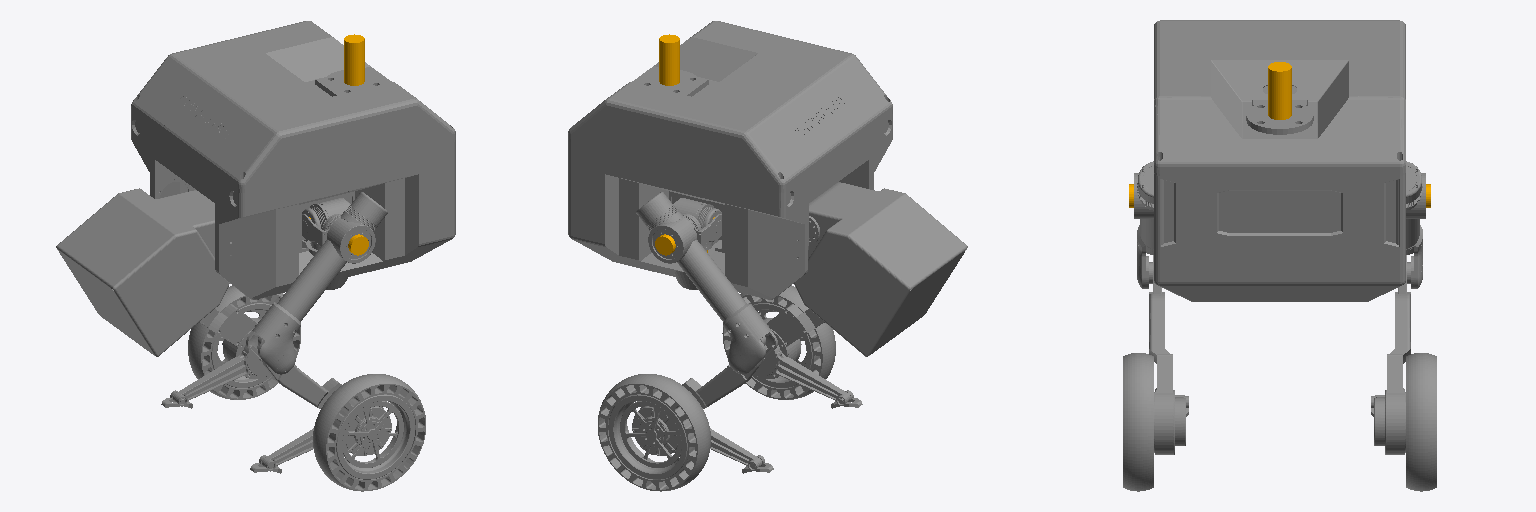
--- Render facts (derived) ---
3 views of the same robot in one strip: view 1: azimuth 30°, elevation 25°; view 2: azimuth 150°, elevation 25°; view 3: azimuth 270°, elevation 25° (orthographic).
Model wheelwalker_v1 with 17 links and 16 joints (5 revolute, 2 continuous, 9 fixed), rooted at base_link, posed all joints at 0.
Visible links, largest first — view 1: base_link, tail_link, right_wheel_link, right_thigh_link, left_wheel_link, right_tibia_link, right_hip_pitch_link, left_foot_link, left_tibia_link, right_foot_link, top_shoulder_mount_link, right_hip_roll_link; view 2: base_link, tail_link, left_wheel_link, left_thigh_link, right_wheel_link, left_tibia_link, left_hip_pitch_link, right_foot_link, right_tibia_link, left_foot_link, top_shoulder_mount_link, left_hip_roll_link; view 3: base_link, left_wheel_link, right_wheel_link, left_tibia_link, right_tibia_link, left_thigh_link, right_thigh_link, top_shoulder_mount_link, left_foot_link, right_foot_link.
Link boxes in pixels (box(x1,y1,x2,y2)): base_link: box(131, 21, 455, 299); tail_link: box(56, 188, 231, 356); right_wheel_link: box(313, 374, 425, 491); right_thigh_link: box(246, 192, 387, 374); left_wheel_link: box(188, 285, 300, 399); right_tibia_link: box(258, 336, 391, 455); right_hip_pitch_link: box(302, 201, 375, 263); left_foot_link: box(161, 345, 269, 408); left_tibia_link: box(199, 304, 269, 378); right_foot_link: box(250, 428, 313, 473); top_shoulder_mount_link: box(344, 34, 364, 85); right_hip_roll_link: box(302, 198, 350, 249); base_link: box(568, 21, 892, 299); tail_link: box(794, 182, 967, 356); left_wheel_link: box(598, 374, 710, 491); left_thigh_link: box(636, 192, 777, 374); right_wheel_link: box(722, 285, 835, 399); left_tibia_link: box(632, 336, 765, 455); left_hip_pitch_link: box(648, 201, 721, 263); right_foot_link: box(754, 345, 862, 408); right_tibia_link: box(754, 304, 824, 378); left_foot_link: box(710, 428, 773, 473); top_shoulder_mount_link: box(659, 34, 679, 85); left_hip_roll_link: box(673, 198, 721, 250); base_link: box(1154, 20, 1405, 301); left_wheel_link: box(1406, 353, 1436, 491); right_wheel_link: box(1123, 353, 1153, 491); left_tibia_link: box(1384, 255, 1410, 454); right_tibia_link: box(1149, 255, 1175, 454); left_thigh_link: box(1406, 161, 1422, 288); right_thigh_link: box(1137, 161, 1153, 288); top_shoulder_mount_link: box(1268, 62, 1291, 119); left_foot_link: box(1371, 395, 1384, 445); right_foot_link: box(1175, 395, 1188, 445).
Bounding box of the posed robot: 0.6579 × 0.4965 × 0.7764 m (x, y, z).
15 mesh visuals loaded from 16 distinct referenced files (15 binary STL); not drawn: 1 (reference not matched to a file when rendering).

robot.urdf — wheelwalker_v1:
<?xml version="1.0" ?>
<!-- =================================================================================== -->
<!-- |    This document was autogenerated by xacro from xacro/wheelwalker_v1.urdf.xacro | -->
<!-- |    EDITING THIS FILE BY HAND IS NOT RECOMMENDED                                 | -->
<!-- =================================================================================== -->
<robot name="wheelwalker_v1">
  <!-- The following included files set up definitions of parts of the robot body -->
  <!-- This file is not a robot in and of itself, it just contains some useful tags that could be included in any robot -->
  <!-- <xacro:include filename="$(find wheelwalker_description)/description/materials.urdf.xacro"/> -->
  <!-- Some constants -->
  <!-- Kinect Camera Location (Nominally 0) -->
  <!-- Rigid shape -->
  <!-- Detailed shape -->
  <!-- Virtual shape -->
  <!-- Mounting Points -->
  <!-- Joints -->
  <!-- Specify some standard inertial calculations https://en.wikipedia.org/wiki/List_of_moments_of_inertia -->
  <!-- These make use of xacro's mathematical functionality -->
  <!-- This file is not a robot in and of itself, it just contains some useful tags that could be included in any robot -->
  <!-- Specify some colours -->
  <material name="Black">
    <color rgba="0.1 0.1 0.1 1.0"/>
  </material>
  <material name="Blue">
    <color rgba="0.0 0.0 0.8 1.0"/>
  </material>
  <material name="Green">
    <color rgba="0.0 0.8 0.0 1.0"/>
  </material>
  <material name="Grey">
    <color rgba="0.7 0.7 0.7 1.0"/>
  </material>
  <material name="Grey2">
    <color rgba="0.9 0.9 0.9 1.0"/>
  </material>
  <material name="LightGrey">
    <color rgba="0.6 0.6 0.6 1.0"/>
  </material>
  <material name="Red">
    <color rgba="0.8 0.0 0.0 1.0"/>
  </material>
  <material name="White">
    <color rgba="1.0 1.0 1.0 1.0"/>
  </material>
  <material name="yellow-skin">
    <color rgba="1 0.7 0 1"/>
  </material>
  <material name="yellow-skin-dark">
    <color rgba="0.9 0.6 0 1"/>
  </material>
  <!-- Specify some textures -->
  <material name="Caster">
    <texture filename="package://wheelwalker_description/materials/textures/wheelwalker_caster_texture.png"/>
  </material>
  <material name="Wheel_l">
    <texture filename="package://wheelwalker_description/materials/textures/wheelwalker_wheel_left.png"/>
  </material>
  <material name="Wheel_r">
    <texture filename="package://wheelwalker_description/materials/textures/wheelwalker_wheel_right.png"/>
  </material>
  <material name="RollLinks">
    <texture filename="package://wheelwalker_description/materials/textures/wheelwalker_wheel_left.png"/>
  </material>
  <!-- WheelWalker arm -->
  <!-- <xacro:include filename="$(find wheelwalker_description)/description/shoulder/shoulder_v1.urdf.xacro"/> -->
  <!-- <xacro:include filename="$(find wheelwalker_description)/description/upper_arm/upper_arm_v1.urdf.xacro"/> -->
  <!-- <xacro:include filename="$(find wheelwalker_description)/description/forearm/forearm_v1.urdf.xacro"/> -->
  <!-- <xacro:include filename="$(find wheelwalker_description)/description/wrist/wrist_v1.urdf.xacro"/> -->
  <!-- <xacro:include filename="$(find wheelwalker_description)/description/gripper/gripper_v1.urdf.xacro"/> -->
  <!-- WheelWalker torso -->
  <!-- <xacro:include filename="$(find wheelwalker_description)/description/torso/torso_v1.urdf.xacro"/> -->
  <!-- WheelWalker base -->
  <!-- <xacro:include filename="$(find wheelwalker_description)/description/sensors/kinect_camera.urdf.xacro"> -->
  <!-- DATA SOURCES -->
  <!-- all simplified collision geometry are hand approximated from CAD model, 
        sometime from respective bounding boxes-->
  <!-- expandable limb mounting points -->
  <!-- left hip mounting point -->
  <!-- <xacro:property name="left_hip_mount_x" value="${base_length*0.0}"/>
    <xacro:property name="left_hip_mount_y" value="0.119"/>
    <xacro:property name="left_hip_mount_z" value="-0.147"/>
    <xacro:property name="left_hip_mount_rpy" value="0 0 0"/> -->
  <!-- right hip mounting point -->
  <!-- <xacro:property name="right_hip_mount_x" value="${base_length*0.0}"/>
    <xacro:property name="right_hip_mount_y" value="-0.119"/>
    <xacro:property name="right_hip_mount_z" value="-0.147"/>
    <xacro:property name="right_hip_mount_rpy" value="0 0 0"/> -->
  <!-- tail mounting point -->
  <!-- <xacro:property name="tail_mount_x" value="-0.1852"/>
    <xacro:property name="tail_mount_y" value="${base_width*0.0}"/>
    <xacro:property name="tail_mount_z" value="-0.0653"/>
    <xacro:property name="tail_mount_rpy" value="-${PI/2} 0 0"/> -->
  <!-- Base Link -->
  <!-- joint offsets -->
  <!-- Knee mount point -->
  <!-- <xacro:property name="knee_mount_x" value="0.04"/>
    <xacro:property name="knee_mount_y" value="0"/>
    <xacro:property name="knee_mount_z" value="-${thigh_length}"/>
    <xacro:property name="knee_mount_rpy" value="${PI/2} 0 0 "/> -->
  <!-- hip macro -->
  <!-- simplified box collision geometry for hip joints -->
  <!-- <xacro:property name="thigh_length" value="0.3"/> -->
  <!-- <xacro:property name="thigh_radius" value="0.1"/> -->
  <!-- <xacro:property name="thigh_mass" value="1.0"/> -->
  <!-- mount dimensions -->
  <!-- <xacro:property name="mount_length" value="0.1"/> -->
  <!-- <xacro:property name="mount_radius" value="0.05"/> -->
  <!-- Thigh macro -->
  <!-- ankle mount point -->
  <!-- <xacro:property name="ankle_mount_x" value="0"/>
    <xacro:property name="ankle_mount_y" value="-${0.0325 - 0.03175}"/>
    <xacro:property name="ankle_mount_z" value="-${mount_radius_knee + tibia_length + mount_radius_ankle}"/>
    <xacro:property name="ankle_mount_rpy" value="${PI/2} 0 0"/> -->
  <!-- Knee macro -->
  <!-- ankle mount point -->
  <!-- <xacro:property name="ankle_mount_x" value="0"/>
    <xacro:property name="ankle_mount_y" value="-${0.0325 - 0.03175}"/>
    <xacro:property name="ankle_mount_z" value="-${mount_radius_knee + tibia_length + mount_radius_ankle}"/>
    <xacro:property name="ankle_mount_rpy" value="${PI/2} 0 0"/> -->
  <!-- ankle macro -->
  <!-- wheel macro -->
  <!-- Tail shape macro -->
  <!-- Now we can start using the macros included above to define the actual WheelWalker -->
  <link name="base_link">
    <visual>
      <geometry>
        <mesh filename="package://wheelwalker_description/meshes/wheelwalker_v0.1/base_link.stl"/>
      </geometry>
      <origin rpy="0 0 0" xyz="0 0 0.0"/>
      <material name="LightGrey"/>
    </visual>

    <collision>
      <origin rpy="0 0 0" xyz="0 0 0.0"/>
      <geometry>
        <box size="0.27 0.24 0.35"/>
      </geometry>
    </collision>
    <!-- <inertial>
                <origin xyz="0 0 ${base_spawn_height}" rpy="0 0 0"/>
                <mass value="${base_mass}"/>
                <inertia ixx="0.1" ixy="0.0" ixz="0.0"
                         iyy="0.1" iyz="0.0"
                         izz="0.1" />
            </inertial> -->
    <inertial>
      <origin rpy="0 0 0" xyz="0 0 0.0"/>
      <mass value="30.198"/>
      <inertia ixx="0.71091125" ixy="0.0" ixz="0.0" iyy="0.8178624999999999" iyz="0.0" izz="0.91223125"/>
    </inertial>
  </link>
  <!-- hip mounting points -->
  <!-- <joint name="left_hip_mount_joint" type="fixed">
            <origin xyz="${left_hip_mount_x} ${left_hip_mount_y} ${left_hip_mount_z}" rpy="0 0 0"/>
            <parent link="base_link"/>
            <child link="left_hip_mount_link"/>
        </joint> -->
  <!-- <xacro:virtual_shape name="left_hip_mount_link" color="yellow-skin">
            <origin xyz="0 0 0" rpy="${left_hip_mount_rpy}"/>
            <cylinder radius="${mount_radius}" length="${mount_length}"/>
        </xacro:virtual_shape> -->
  <!-- <xacro:rigid_shape name="left_hip_mount_link" mass="1.0" color="yellow-skin">
            <origin xyz="0 0 0" rpy="${left_hip_mount_rpy}"/>
            <cylinder radius="${mount_radius}" length="${mount_length}"/>
            <inertia ixx="0.1" ixy="0.0" ixz="0.0"
                     iyy="0.1" iyz="0.0"
                     izz="0.1"/>
        </xacro:rigid_shape> -->
  <!-- <joint name="right_hip_mount_joint" type="fixed">
            <origin xyz="${right_hip_mount_x} ${right_hip_mount_y} ${right_hip_mount_z}" rpy="0 0 0"/>
            <parent link="base_link"/>
            <child link="right_hip_mount_link"/>
        </joint> -->
  <!-- <xacro:virtual_shape name="right_hip_mount_link" color="yellow-skin">
            <origin xyz="0 0 0" rpy="${right_hip_mount_rpy}"/>
            <cylinder radius="${mount_radius}" length="${mount_length}"/>
        </xacro:virtual_shape> -->
  <!-- <xacro:rigid_shape name="right_hip_mount_link" mass="1.0" color="yellow-skin">
            <origin xyz="0 0 0" rpy="${right_hip_mount_rpy}"/>
            <cylinder radius="${mount_radius}" length="${mount_length}"/>
            <inertia ixx="0.1" ixy="0.0" ixz="0.0"
                     iyy="0.1" iyz="0.0"
                     izz="0.1"/>
        </xacro:rigid_shape> -->
  <!-- <xacro:joint_mount name="left_hip_mount" 
                            parent_link="base_link" 
                            attachment_origin="${left_hip_mount_x} ${left_hip_mount_y} ${left_hip_mount_z}" 
                            attachment_rotation="${left_hip_mount_rpy}"
                            mount_radius="${mount_radius}"
                            mount_length="${mount_length}"
                            color="yellow-skin"/> -->
  <!-- <xacro:joint_mount name="right_hip_mount" 
                            parent_link="base_link" 
                            attachment_origin="${right_hip_mount_x} ${right_hip_mount_y} ${right_hip_mount_z}" 
                            attachment_rotation="${right_hip_mount_rpy}"
                            mount_radius="${mount_radius}"
                            mount_length="${mount_length}"
                            color="yellow-skin"/> -->
  <!-- shoulder mounting points -->
  <joint name="top_shoulder_mount_joint" type="fixed">
    <origin rpy="0 0 0" xyz="0.12600000000000003 0.0 0.175"/>
    <parent link="base_link"/>
    <child link="top_shoulder_mount_link"/>
  </joint>
  <link name="top_shoulder_mount_link">
    <visual>
      <origin rpy="0 0 0" xyz="0 0 0"/>
      <geometry>
        <cylinder length="0.08879999999999999" radius="0.0185"/>
      </geometry>
      <material name="yellow-skin"/>
    </visual>
  </link>
  <!-- <xacro:rigid_shape name="top_shoulder_mount_link" mass="1.0" color="yellow-skin">
            <origin xyz="0 0 0" rpy="${top_shoulder_mount_rpy}"/>
            <cylinder radius="${mount_radius}" length="${mount_length}"/>
            <inertia ixx="0.1" ixy="0.0" ixz="0.0"
                     iyy="0.1" iyz="0.0"
                     izz="0.1"/>
        </xacro:rigid_shape> -->
  <!-- <xacro:joint_mount name="top_shoulder_mount" 
                            parent_link="base_link" 
                            attachment_origin="${top_shoulder_mount_x} ${top_shoulder_mount_y} ${top_shoulder_mount_z}" 
                            attachment_rotation="${top_shoulder_mount_rpy}"
                            mount_radius="${mount_radius}"
                            mount_length="${mount_length}"
                            color="yellow-skin"/> -->
  <!-- tail mounting points -->
  <!-- <joint name="tail_mount_joint" type="fixed">
            <origin xyz="${tail_mount_x} ${tail_mount_y} ${tail_mount_z}" rpy="0 -${PI/6} 0"/>
            <parent link="base_link"/>
            <child link="tail_mount_link"/>
        </joint> -->
  <!-- <xacro:virtual_shape name="tail_mount_link" color="yellow-skin">
            <origin xyz="0 0 0" rpy="${tail_mount_rpy}"/>
            <cylinder radius="${mount_radius}" length="${mount_length * 2}"/>
        </xacro:virtual_shape> -->
  <!-- <xacro:rigid_shape name="tail_mount_link" mass="1.0" color="yellow-skin">
            <origin xyz="0 0 0" rpy="${tail_mount_rpy}"/>
            <cylinder radius="${mount_radius}" length="${mount_length}"/>
            <inertia ixx="0.1" ixy="0.0" ixz="0.0"
                     iyy="0.1" iyz="0.0"
                     izz="0.1"/>
        </xacro:rigid_shape> -->
  <!-- <xacro:joint_mount name="tail_mount" 
                            parent_link="base_link" 
                            attachment_origin="${tail_mount_x} ${tail_mount_y} ${tail_mount_z}" 
                            attachment_rotation="${tail_mount_rpy}"
                            mount_radius="${mount_radius}"
                            mount_length="${mount_length}"
                            color="yellow-skin"/> -->
  <joint name="tail_pitch_joint" type="revolute">
    <origin rpy="0 -0.5235987755983333 0" xyz="-0.1852 0.0 -0.0653"/>
    <parent link="base_link"/>
    <child link="tail_link"/>
    <!-- <child link="${name}_pitch_link"/> -->
    <axis xyz="0 1 0"/>
    <limit effort="1000.0" lower="-1.0471975511966667" upper="0.5235987755983333" velocity="10.0"/>
    <dynamics damping="0.0" friction="0.0"/>
  </joint>
  <!-- <link name="${name}_link">

            <visual>
                <origin xyz="0 0 0" rpy="0 0 0"/>
                <geometry>
                    <mesh filename="package://wheelwalker_description/meshes/wheelwalker_v0.1/tail_link.STL"/>
                </geometry>
                <material name="color"/>
            </visual>

            <collision>
                <origin xyz="0 0 0" rpy="0 0 0"/>
                <geometry>
                    <box size="${tail_length} ${tail_width} ${tail_height}"/>
                </geometry>
            </collision>

            <inertial>
                <origin xyz="0 0 0" rpy="0 0 0"/>
                <mass value="${tail_mass}"/>
                <inertia ixx="0.1" ixy="0.0" ixz="0.0" 
                         iyy="0.1" iyz="0.0" 
                         izz="0.1"/>
            </inertial>

        </link> -->
  <link name="tail_link">
    <visual>
      <origin rpy="0 0.5235987755983333 0" xyz="0 0 0"/>
      <geometry>
        <mesh filename="package://wheelwalker_description/meshes/wheelwalker_v0.1/tail_link.stl" scale="0.001 0.001 0.001"/>
      </geometry>
      <material name="LightGrey"/>
    </visual>

    <collision>
      <origin rpy="0 0 0" xyz="-0.139 0 0"/>
      <geometry>
        <box size="0.19 0.21 0.185"/>
      </geometry>
    </collision>
    <inertial>
      <origin rpy="0 0 0" xyz="-0.139 0 0"/>
      <mass value="8.0"/>
      <inertia ixx="0.05221666666666666" ixy="0.0" ixz="0.0" iyy="0.04688333333333333" iyz="0.0" izz="0.05346666666666666"/>
    </inertial>
    <!-- <xacro:insert_block name="inertial"/> -->
  </link>
  <!-- <xacro:rigid_shape name="${name}_link" mass="${tail_mass}" color="${color}">
            <origin xyz="-0.15 0 0" rpy="0 -${PI/4} 0"/>
            <box size="${tail_length} ${tail_width} ${tail_height}"/>
            <inertia ixx="0.1" ixy="0.0" ixz="0.0" 
                     iyy="0.1" iyz="0.0" 
                     izz="0.1"/>
        </xacro:rigid_shape> -->
  <!-- <link name="${name}_link">

            <visual>
                <origin xyz="-${tail_length/2} 0 0" rpy="0 0 0"/>
                <geometry>
                    <box size="${tail_length} ${tail_width} ${tail_height}"/>
                </geometry>
                <material name="color"/>
            </visual>

            <collision>
                <origin xyz="-${tail_length/2} 0 0" rpy="0 0 0"/>
                <geometry>
                    <box size="${tail_length} ${tail_width} ${tail_height}"/>
                </geometry>
            </collision>

            <inertial>
                <origin xyz="-${tail_length/2} 0 0" rpy="0 0 0"/>
                <mass value="${tail_mass}"/>
                <inertia ixx="0.1" ixy="0.0" ixz="0.0" 
                         iyy="0.1" iyz="0.0" 
                         izz="0.1"/>
            </inertial>

        </link> -->
  <!-- Left Leg Links -->
  <!-- hip mounting points -->
  <joint name="left_hip_mount_joint" type="fixed">
    <origin rpy="0 0 0" xyz="0.0 0.119 -0.147"/>
    <parent link="base_link"/>
    <child link="left_hip_yaw_link"/>
  </joint>
  <!-- hip yaw -->
  <!-- <xacro:rigid_shape name="${prefix}_hip_yaw_link" mass="${hip_joint_mass}" color="yellow-skin">
            <origin xyz="0 0 0" rpy="0 0 0"/>
            <cylinder radius="${hip_joint_radius}" length="${hip_joint_length}"/>
            <inertia ixx="0.1" ixy="0.0" ixz="0.0" 
                     iyy="0.1" iyz="0.0" 
                     izz="0.1"/>
        </xacro:rigid_shape> -->
  <link name="left_hip_yaw_link">
    <visual>
      <origin rpy="0 0 0" xyz="0 0 0"/>
      <geometry>
        <mesh filename="package://wheelwalker_description/meshes/wheelwalker_v0.1/left_hip_yaw_link.stl" scale="0.001 0.001 0.001"/>
      </geometry>
      <material name="LightGrey"/>
    </visual>
    <visual>
      <origin rpy="0 0 0" xyz="0 0 0"/>
      <geometry>
        <cylinder length="0.08879999999999999" radius="0.0185"/>
      </geometry>
      <material name="yellow-skin"/>
    </visual>
    <collision>
      <origin rpy="0 0 0" xyz="0 0 0"/>
      <geometry>
        <cylinder length="0.08879999999999999" radius="0.0185"/>
      </geometry>
    </collision>
    <inertial>
      <origin rpy="0 0 0" xyz="0 0 0"/>
      <mass value="0.85"/>
      <inertia ixx="0.0006312801249999998" ixy="0.0" ixz="0.0" iyy="0.0006312801249999998" iyz="0.0" izz="0.00014545624999999997"/>
    </inertial>
    <!-- <xacro:insert_block name="inertial"/> -->
  </link>
  <joint name="left_hip_yaw_joint" type="fixed">
    <origin rpy="0 0 0" xyz="0 0 0"/>
    <parent link="left_hip_yaw_link"/>
    <child link="left_hip_roll_link"/>
    <axis xyz="0 0 1"/>
    <limit effort="1000.0" lower="-3.14159265359" upper="3.14159265359" velocity="10.0"/>
    <dynamics damping="0.0" friction="0.0"/>
  </joint>
  <!-- hip roll -->
  <!-- <xacro:rigid_shape name="${prefix}_hip_roll_link" mass="${hip_joint_mass}" color="yellow-skin">
            <origin xyz="0 0 0" rpy="${hip_roll_offset_rpy}"/>
            <cylinder radius="${hip_joint_radius}" length="${hip_joint_length}"/>
            <inertia ixx="0.1" ixy="0.0" ixz="0.0" 
                     iyy="0.1" iyz="0.0" 
                     izz="0.1"/>
        </xacro:rigid_shape> -->
  <link name="left_hip_roll_link">
    <visual>
      <origin rpy="0 0 0" xyz="0 0 0.08175"/>
      <geometry>
        <mesh filename="package://wheelwalker_description/meshes/wheelwalker_v0.1/left_hip_roll_link.stl" scale="0.001 0.001 0.001"/>
      </geometry>
      <material name="LightGrey"/>
    </visual>
    <visual>
      <origin rpy="0 1.570796326795 0" xyz="0 0 0.08175"/>
      <geometry>
        <cylinder length="0.08879999999999999" radius="0.0185"/>
      </geometry>
      <material name="yellow-skin"/>
    </visual>
    <collision>
      <origin rpy="0 1.570796326795 0" xyz="0 0 0.08175"/>
      <geometry>
        <cylinder length="0.08879999999999999" radius="0.0185"/>
      </geometry>
    </collision>
    <inertial>
      <origin rpy="0 1.570796326795 0" xyz="0 0 0.08175"/>
      <mass value="0.85"/>
      <inertia ixx="0.0006312801249999998" ixy="0.0" ixz="0.0" iyy="0.0006312801249999998" iyz="0.0" izz="0.00014545624999999997"/>
    </inertial>
    <!-- <xacro:insert_block name="inertial"/> -->
  </link>
  <joint name="left_hip_roll_joint" type="fixed">
    <origin rpy="0 0 0" xyz="0 0 0.08175"/>
    <parent link="left_hip_roll_link"/>
    <child link="left_hip_pitch_link"/>
    <axis xyz="1 0 0"/>
    <limit effort="1000.0" lower="-3.14159265359" upper="3.14159265359" velocity="10.0"/>
    <dynamics damping="0.0" friction="0.0"/>
  </joint>
  <!-- hip pitch -->
  <!-- <xacro:rigid_shape name="${prefix}_hip_pitch_link" mass="${hip_joint_mass}" color="yellow-skin">
            <origin xyz="0 0 0" rpy="${hip_pitch_offset_rpy}"/>
            <cylinder radius="${hip_joint_radius}" length="${hip_joint_length}"/>
            <inertia ixx="0.1" ixy="0.0" ixz="0.0" 
                     iyy="0.1" iyz="0.0" 
                     izz="0.1"/>
        </xacro:rigid_shape> -->
  <link name="left_hip_pitch_link">
    <visual>
      <origin rpy="0 0 0" xyz="0 0.07525 0"/>
      <geometry>
        <mesh filename="package://wheelwalker_description/meshes/wheelwalker_v0.1/left_hip_pitch_link.stl" scale="0.001 0.001 0.001"/>
      </geometry>
      <material name="LightGrey"/>
    </visual>
    <visual>
      <origin rpy="1.570796326795 0 0" xyz="0 0.07525 0"/>
      <geometry>
        <cylinder length="0.08879999999999999" radius="0.0185"/>
      </geometry>
      <material name="yellow-skin"/>
    </visual>
    <collision>
      <origin rpy="1.570796326795 0 0" xyz="0 0.07525 0"/>
      <geometry>
        <cylinder length="0.08879999999999999" radius="0.0185"/>
      </geometry>
    </collision>
    <inertial>
      <origin rpy="1.570796326795 0 0" xyz="0 0.07525 0"/>
      <mass value="0.85"/>
      <inertia ixx="0.0006312801249999998" ixy="0.0" ixz="0.0" iyy="0.0006312801249999998" iyz="0.0" izz="0.00014545624999999997"/>
    </inertial>
    <!-- <xacro:insert_block name="inertial"/> -->
  </link>
  <joint name="left_hip_pitch_joint" type="revolute">
    <origin rpy="0 0.7853981633975 0" xyz="0 0.07525 0"/>
    <parent link="left_hip_pitch_link"/>
    <child link="left_thigh_link"/>
    <axis xyz="0 1 0"/>
    <limit effort="1000.0" lower="-2.3561944901925003" upper="1.570796326795" velocity="10.0"/>
    <dynamics damping="0.0" friction="0.0"/>
  </joint>
  <!-- Thigh link -->
  <!-- <joint name="${prefix}_thigh_mount_joint" type="fixed">
            <origin xyz="0 0 0" rpy="0 0 0"/>
            <parent link="${prefix}_hip_pitch_link"/>
            <child link="${prefix}_thigh_link"/>
        </joint> -->
  <!-- <xacro:rigid_shape name="${prefix}_thigh_link" mass="${thigh_mass}" color="${color}">
            <origin xyz="0 0 -${thigh_length/2}" rpy="${thigh_mount_rpy}"/>
            <cylinder length="${thigh_length}" radius="${thigh_radius}"/>
            <inertia ixx="0.1" ixy="0.0" ixz="0.0" 
                     iyy="0.1" iyz="0.0" 
                     izz="0.1" />
        </xacro:rigid_shape> -->
  <link name="left_thigh_link">
    <visual>
      <origin rpy="0 0 0" xyz="0 0 0"/>
      <geometry>
        <mesh filename="package://wheelwalker_description/meshes/wheelwalker_v0.1/left_thigh_link.stl" scale="0.001 0.001 0.001"/>
      </geometry>
      <material name="LightGrey"/>
    </visual>

    <collision>
      <origin rpy="0 0 0" xyz="0.0 0.0 -0.125"/>
      <geometry>
        <cylinder length="0.25" radius="0.033"/>
      </geometry>
    </collision>
    <inertial>
      <origin rpy="0 0 0" xyz="0.0 0.0 -0.125"/>
      <mass value="2.8"/>
      <inertia ixx="0.015345633333333332" ixy="0.0" ixz="0.0" iyy="0.015345633333333332" iyz="0.0" izz="0.0015246"/>
    </inertial>
    <!-- <xacro:insert_block name="inertial"/> -->
  </link>
  <!-- knee mount -->
  <!-- <joint name="${prefix}_knee_mount_joint" type="fixed">
            <origin xyz="${knee_mount_x} ${knee_mount_y} ${knee_mount_z}" rpy="0 0 0"/>
            <parent link="${prefix}_thigh_link"/>
            <child link="${prefix}_knee_mount_link"/>
        </joint> -->
  <!-- <xacro:virtual_shape name="${prefix}_knee_mount_link" color="yellow-skin">
            <origin xyz="0 0 0" rpy="${knee_mount_rpy}"/>
            <cylinder radius="${mount_radius_knee}" length="${mount_length_knee}"/>
        </xacro:virtual_shape> -->
  <!-- <xacro:rigid_shape name="${prefix}_knee_mount_link" mass="${hip_joint_mass}" color="yellow-skin">
            <origin xyz="0 0 0" rpy="${knee_mount_rpy}"/>
            <cylinder radius="${mount_radius_knee}" length="${mount_length_knee}"/>
            <inertia ixx="0.1" ixy="0.0" ixz="0.0" 
                     iyy="0.1" iyz="0.0" 
                     izz="0.1"/>
        </xacro:rigid_shape> -->
  <!-- <xacro:joint_mount name="${prefix}_knee_mount"
                           parent_link="${prefix}_thigh_link"
                           attachment_origin="0 0 -${thigh_length}"
                           attachment_rotation="0 0 ${PI/2}"
                           radius_knee="${mount_radius_knee}"
                           length_knee="${mount_length_knee}"
                           color="yellow-skin"/>         -->
  <joint name="left_knee_pitch_joint" type="revolute">
    <!-- <origin xyz="${attachment_origin}" rpy="${attachment_rotation}"/> -->
    <origin rpy="0 -1.570796326795 0 " xyz="0.04 0 -0.25"/>
    <parent link="left_thigh_link"/>
    <child link="left_tibia_link"/>
    <axis xyz="0 1 0"/>
    <limit effort="1000.0" lower="-0.7853981633975" upper="2.3561944901925003" velocity="10.0"/>
    <dynamics damping="0.0" friction="0.0"/>
  </joint>
  <!-- <xacro:rigid_shape name="${prefix}_tibia_link" mass="${tibia_mass}" color="${color}">
            <origin xyz="0 0 -${tibia_length/2 + mount_radius_knee}" rpy="0 0 0"/>
            <cylinder radius="${tibia_radius}" length="${tibia_length}"/>
            <inertia ixx="0.1" ixy="0.0" ixz="0.0" 
                     iyy="0.1" iyz="0.0" 
                     izz="0.1"/>
        </xacro:rigid_shape> -->
  <link name="left_tibia_link">
    <visual>
      <origin rpy="0 0 0" xyz="0 0 0"/>
      <geometry>
        <mesh filename="package://wheelwalker_description/meshes/wheelwalker_v0.1/left_tibia_link.stl" scale="0.001 0.001 0.001"/>
      </geometry>
      <material name="LightGrey"/>
    </visual>

    <collision>
      <origin rpy="0 0 0" xyz="0 0 -0.125"/>
      <geometry>
        <cylinder length="0.25" radius="0.0315"/>
      </geometry>
    </collision>
    <inertial>
      <origin rpy="0 0 0" xyz="0 0 -0.125"/>
      <mass value="1.2"/>
      <inertia ixx="0.006547674999999999" ixy="0.0" ixz="0.0" iyy="0.006547674999999999" iyz="0.0" izz="0.00059535"/>
    </inertial>
    <!-- <xacro:insert_block name="inertial"/> -->
  </link>
  <!-- add ankle mount -->
  <!-- <joint name="${prefix}_ankle_mount_joint" type="fixed">
            <origin xyz="${ankle_mount_x} ${ankle_mount_y} ${ankle_mount_z}" rpy="0 0 0"/>
            <parent link="${prefix}_tibia_link"/>
            <child link="${prefix}_ankle_mount_link"/>
        </joint> -->
  <!-- <xacro:rigid_shape name="${prefix}_ankle_mount_link" mass="${tibia_mass}" color="yellow-skin">
            <origin xyz="0 0 0" rpy="${ankle_mount_rpy}"/>
            <cylinder radius="${mount_radius_ankle}" length="${mount_length_ankle}"/>
            <inertia ixx="0.1" ixy="0.0" ixz="0.0" 
                     iyy="0.1" iyz="0.0" 
                     izz="0.1"/>
        </xacro:rigid_shape> -->
  <!-- <xacro:joint_mount name="${prefix}_ankle_mount"
                           parent_link="${prefix}_tibia_link"
                           attachment_origin="0 0 -${tibia_length}"
                           attachment_rotation="0 0 0"
                           mount_radius="${mount_radius_ankle}"
                           mount_length="${mount_length_ankle}"
                           color="yellow-skin"/> -->
  <!-- supporting foot -->
  <joint name="left_ankle_pitch_joint" type="fixed">
    <origin rpy="0 0.5235987755983333 0" xyz="0 -0.035 -0.25"/>
    <parent link="left_tibia_link"/>
    <child link="left_foot_link"/>
    <axis xyz="0 1 0"/>
    <limit effort="1000.0" lower="-0.7853981633975" upper="0.7853981633975" velocity="10.0"/>
    <dynamics damping="0.0" friction="0.0"/>
  </joint>
  <!-- <xacro:rigid_shape name="${prefix}_foot_link" mass="${foot_mass}" color="${color}">
            <origin xyz="${foot_shape_x} ${foot_shape_y * reflect} ${foot_shape_z}" 
                    rpy="${foot_shape_rpy}"/>
            <cylinder radius="${foot_radius}" length="${foot_length}"/>
            <inertia ixx="0.1" ixy="0.0" ixz="0.0" 
                     iyy="0.1" iyz="0.0" 
                     izz="0.1"/>
        </xacro:rigid_shape> -->
  <link name="left_foot_link">
    <visual>
      <origin rpy="0 0 0" xyz="0 0 0"/>
      <geometry>
        <mesh filename="package://wheelwalker_description/meshes/wheelwalker_v0.1/left_foot_link.stl" scale="0.001 0.001 0.001"/>
      </geometry>
      <material name="LightGrey"/>
    </visual>

    <collision>
      <origin rpy="0 1.570796326795 0" xyz="-0.09 0 0"/>
      <geometry>
        <cylinder length="0.18" radius="0.012"/>
      </geometry>
    </collision>
    <inertial>
      <origin rpy="0 1.570796326795 0" xyz="-0.09 0 0"/>
      <mass value="1.177"/>
      <inertia ixx="0.0032202719999999997" ixy="0.0" ixz="0.0" iyy="0.0032202719999999997" iyz="0.0" izz="8.4744e-05"/>
    </inertial>
    <!-- <xacro:insert_block name="inertial"/> -->
  </link>
  <!-- wheel link -->
  <joint name="left_wheel_joint" type="continuous">
    <origin rpy="0 0 0" xyz="0 0.03 -0.25"/>
    <parent link="left_tibia_link"/>
    <child link="left_wheel_link"/>
    <axis xyz="0 1 0"/>
    <limit effort="1000.0" velocity="10.0"/>
    <dynamics damping="0.0" friction="0.0"/>
  </joint>
  <!-- <xacro:rigid_shape name="${prefix}_wheel_link" mass="${wheel_mass}" color="${color}">
            <origin xyz="${wheel_shape_x} ${wheel_shape_y * reflect} ${wheel_shape_z}" 
                    rpy="${wheel_shape_rpy}"/>
            <cylinder radius="${wheel_radius}" length="${wheel_length}"/>
            <inertia ixx="0.1" ixy="0.0" ixz="0.0" 
                     iyy="0.1" iyz="0.0" 
                     izz="0.1"/>
        </xacro:rigid_shape> -->
  <link name="left_wheel_link">
    <visual>
      <origin rpy="0 0 0" xyz="0 0 0"/>
      <geometry>
        <mesh filename="package://wheelwalker_description/meshes/wheelwalker_v0.1/left_wheel_link.stl" scale="0.001 0.001 0.001"/>
      </geometry>
      <material name="LightGrey"/>
    </visual>

    <collision>
      <origin rpy="1.570796326795 0 0" xyz="0 0 0"/>
      <geometry>
        <cylinder length="0.03" radius="0.11"/>
      </geometry>
    </collision>
    <inertial>
      <origin rpy="1.570796326795 0 0" xyz="0 0 0"/>
      <mass value="0.9"/>
      <inertia ixx="0.0027899999999999995" ixy="0.0" ixz="0.0" iyy="0.0027899999999999995" iyz="0.0" izz="0.005445"/>
    </inertial>
    <!-- <xacro:insert_block name="inertial"/> -->
  </link>
  <!-- Right Leg Links -->
  <!-- hip mounting points -->
  <joint name="right_hip_mount_joint" type="fixed">
    <origin rpy="0 0 0" xyz="0.0 -0.119 -0.147"/>
    <parent link="base_link"/>
    <child link="right_hip_yaw_link"/>
  </joint>
  <!-- hip yaw -->
  <!-- <xacro:rigid_shape name="${prefix}_hip_yaw_link" mass="${hip_joint_mass}" color="yellow-skin">
            <origin xyz="0 0 0" rpy="0 0 0"/>
            <cylinder radius="${hip_joint_radius}" length="${hip_joint_length}"/>
            <inertia ixx="0.1" ixy="0.0" ixz="0.0" 
                     iyy="0.1" iyz="0.0" 
                     izz="0.1"/>
        </xacro:rigid_shape> -->
  <link name="right_hip_yaw_link">
    <visual>
      <origin rpy="0 0 0" xyz="0 0 0"/>
      <geometry>
        <mesh filename="package://wheelwalker_description/meshes/wheelwalker_v0.1/right_hip_yaw_link.stl" scale="0.001 0.001 0.001"/>
      </geometry>
      <material name="LightGrey"/>
    </visual>
    <visual>
      <origin rpy="0 0 0" xyz="0 0 0"/>
      <geometry>
        <cylinder length="0.08879999999999999" radius="0.0185"/>
      </geometry>
      <material name="yellow-skin"/>
    </visual>
    <collision>
      <origin rpy="0 0 0" xyz="0 0 0"/>
      <geometry>
        <cylinder length="0.08879999999999999" radius="0.0185"/>
      </geometry>
    </collision>
    <inertial>
      <origin rpy="0 0 0" xyz="0 0 0"/>
      <mass value="0.85"/>
      <inertia ixx="0.0006312801249999998" ixy="0.0" ixz="0.0" iyy="0.0006312801249999998" iyz="0.0" izz="0.00014545624999999997"/>
    </inertial>
    <!-- <xacro:insert_block name="inertial"/> -->
  </link>
  <joint name="right_hip_yaw_joint" type="fixed">
    <origin rpy="0 0 0" xyz="0 0 0"/>
    <parent link="right_hip_yaw_link"/>
    <child link="right_hip_roll_link"/>
    <axis xyz="0 0 1"/>
    <limit effort="1000.0" lower="-3.14159265359" upper="3.14159265359" velocity="10.0"/>
    <dynamics damping="0.0" friction="0.0"/>
  </joint>
  <!-- hip roll -->
  <!-- <xacro:rigid_shape name="${prefix}_hip_roll_link" mass="${hip_joint_mass}" color="yellow-skin">
            <origin xyz="0 0 0" rpy="${hip_roll_offset_rpy}"/>
            <cylinder radius="${hip_joint_radius}" length="${hip_joint_length}"/>
            <inertia ixx="0.1" ixy="0.0" ixz="0.0" 
                     iyy="0.1" iyz="0.0" 
                     izz="0.1"/>
        </xacro:rigid_shape> -->
  <link name="right_hip_roll_link">
    <visual>
      <origin rpy="0 0 0" xyz="0 0 0.08175"/>
      <geometry>
        <mesh filename="package://wheelwalker_description/meshes/wheelwalker_v0.1/right_hip_roll_link.stl" scale="0.001 0.001 0.001"/>
      </geometry>
      <material name="LightGrey"/>
    </visual>
    <visual>
      <origin rpy="0 1.570796326795 0" xyz="0 0 0.08175"/>
      <geometry>
        <cylinder length="0.08879999999999999" radius="0.0185"/>
      </geometry>
      <material name="yellow-skin"/>
    </visual>
    <collision>
      <origin rpy="0 1.570796326795 0" xyz="0 0 0.08175"/>
      <geometry>
        <cylinder length="0.08879999999999999" radius="0.0185"/>
      </geometry>
    </collision>
    <inertial>
      <origin rpy="0 1.570796326795 0" xyz="0 0 0.08175"/>
      <mass value="0.85"/>
      <inertia ixx="0.0006312801249999998" ixy="0.0" ixz="0.0" iyy="0.0006312801249999998" iyz="0.0" izz="0.00014545624999999997"/>
    </inertial>
    <!-- <xacro:insert_block name="inertial"/> -->
  </link>
  <joint name="right_hip_roll_joint" type="fixed">
    <origin rpy="0 0 0" xyz="0 0 0.08175"/>
    <parent link="right_hip_roll_link"/>
    <child link="right_hip_pitch_link"/>
    <axis xyz="-1 0 0"/>
    <limit effort="1000.0" lower="-3.14159265359" upper="3.14159265359" velocity="10.0"/>
    <dynamics damping="0.0" friction="0.0"/>
  </joint>
  <!-- hip pitch -->
  <!-- <xacro:rigid_shape name="${prefix}_hip_pitch_link" mass="${hip_joint_mass}" color="yellow-skin">
            <origin xyz="0 0 0" rpy="${hip_pitch_offset_rpy}"/>
            <cylinder radius="${hip_joint_radius}" length="${hip_joint_length}"/>
            <inertia ixx="0.1" ixy="0.0" ixz="0.0" 
                     iyy="0.1" iyz="0.0" 
                     izz="0.1"/>
        </xacro:rigid_shape> -->
  <link name="right_hip_pitch_link">
    <visual>
      <origin rpy="0 0 0" xyz="0 -0.07525 0"/>
      <geometry>
        <mesh filename="package://wheelwalker_description/meshes/wheelwalker_v0.1/right_hip_pitch_link.stl" scale="0.001 0.001 0.001"/>
      </geometry>
      <material name="LightGrey"/>
    </visual>
    <visual>
      <origin rpy="1.570796326795 0 0" xyz="0 -0.07525 0"/>
      <geometry>
        <cylinder length="0.08879999999999999" radius="0.0185"/>
      </geometry>
      <material name="yellow-skin"/>
    </visual>
    <collision>
      <origin rpy="1.570796326795 0 0" xyz="0 -0.07525 0"/>
      <geometry>
        <cylinder length="0.08879999999999999" radius="0.0185"/>
      </geometry>
    </collision>
    <inertial>
      <origin rpy="1.570796326795 0 0" xyz="0 -0.07525 0"/>
      <mass value="0.85"/>
      <inertia ixx="0.0006312801249999998" ixy="0.0" ixz="0.0" iyy="0.0006312801249999998" iyz="0.0" izz="0.00014545624999999997"/>
    </inertial>
    <!-- <xacro:insert_block name="inertial"/> -->
  </link>
  <joint name="right_hip_pitch_joint" type="revolute">
    <origin rpy="0 0.7853981633975 0" xyz="0 -0.07525 0"/>
    <parent link="right_hip_pitch_link"/>
    <child link="right_thigh_link"/>
    <axis xyz="0 1 0"/>
    <limit effort="1000.0" lower="-2.3561944901925003" upper="1.570796326795" velocity="10.0"/>
    <dynamics damping="0.0" friction="0.0"/>
  </joint>
  <!-- Thigh link -->
  <!-- <joint name="${prefix}_thigh_mount_joint" type="fixed">
            <origin xyz="0 0 0" rpy="0 0 0"/>
            <parent link="${prefix}_hip_pitch_link"/>
            <child link="${prefix}_thigh_link"/>
        </joint> -->
  <!-- <xacro:rigid_shape name="${prefix}_thigh_link" mass="${thigh_mass}" color="${color}">
            <origin xyz="0 0 -${thigh_length/2}" rpy="${thigh_mount_rpy}"/>
            <cylinder length="${thigh_length}" radius="${thigh_radius}"/>
            <inertia ixx="0.1" ixy="0.0" ixz="0.0" 
                     iyy="0.1" iyz="0.0" 
                     izz="0.1" />
        </xacro:rigid_shape> -->
  <link name="right_thigh_link">
    <visual>
      <origin rpy="0 0 0" xyz="0 0 0"/>
      <geometry>
        <mesh filename="package://wheelwalker_description/meshes/wheelwalker_v0.1/right_thigh_link.stl" scale="0.001 0.001 0.001"/>
      </geometry>
      <material name="LightGrey"/>
    </visual>

    <collision>
      <origin rpy="0 0 0" xyz="0.0 -0.0 -0.125"/>
      <geometry>
        <cylinder length="0.25" radius="0.033"/>
      </geometry>
    </collision>
    <inertial>
      <origin rpy="0 0 0" xyz="0.0 -0.0 -0.125"/>
      <mass value="2.8"/>
      <inertia ixx="0.015345633333333332" ixy="0.0" ixz="0.0" iyy="0.015345633333333332" iyz="0.0" izz="0.0015246"/>
    </inertial>
    <!-- <xacro:insert_block name="inertial"/> -->
  </link>
  <!-- knee mount -->
  <!-- <joint name="${prefix}_knee_mount_joint" type="fixed">
            <origin xyz="${knee_mount_x} ${knee_mount_y} ${knee_mount_z}" rpy="0 0 0"/>
            <parent link="${prefix}_thigh_link"/>
            <child link="${prefix}_knee_mount_link"/>
        </joint> -->
  <!-- <xacro:virtual_shape name="${prefix}_knee_mount_link" color="yellow-skin">
            <origin xyz="0 0 0" rpy="${knee_mount_rpy}"/>
            <cylinder radius="${mount_radius_knee}" length="${mount_length_knee}"/>
        </xacro:virtual_shape> -->
  <!-- <xacro:rigid_shape name="${prefix}_knee_mount_link" mass="${hip_joint_mass}" color="yellow-skin">
            <origin xyz="0 0 0" rpy="${knee_mount_rpy}"/>
            <cylinder radius="${mount_radius_knee}" length="${mount_length_knee}"/>
            <inertia ixx="0.1" ixy="0.0" ixz="0.0" 
                     iyy="0.1" iyz="0.0" 
                     izz="0.1"/>
        </xacro:rigid_shape> -->
  <!-- <xacro:joint_mount name="${prefix}_knee_mount"
                           parent_link="${prefix}_thigh_link"
                           attachment_origin="0 0 -${thigh_length}"
                           attachment_rotation="0 0 ${PI/2}"
                           radius_knee="${mount_radius_knee}"
                           length_knee="${mount_length_knee}"
                           color="yellow-skin"/>         -->
  <joint name="right_knee_pitch_joint" type="revolute">
    <!-- <origin xyz="${attachment_origin}" rpy="${attachment_rotation}"/> -->
    <origin rpy="0 -1.570796326795 0 " xyz="0.04 0 -0.25"/>
    <parent link="right_thigh_link"/>
    <child link="right_tibia_link"/>
    <axis xyz="0 1 0"/>
    <limit effort="1000.0" lower="-0.7853981633975" upper="2.3561944901925003" velocity="10.0"/>
    <dynamics damping="0.0" friction="0.0"/>
  </joint>
  <!-- <xacro:rigid_shape name="${prefix}_tibia_link" mass="${tibia_mass}" color="${color}">
            <origin xyz="0 0 -${tibia_length/2 + mount_radius_knee}" rpy="0 0 0"/>
            <cylinder radius="${tibia_radius}" length="${tibia_length}"/>
            <inertia ixx="0.1" ixy="0.0" ixz="0.0" 
                     iyy="0.1" iyz="0.0" 
                     izz="0.1"/>
        </xacro:rigid_shape> -->
  <link name="right_tibia_link">
    <visual>
      <origin rpy="0 0 0" xyz="0 0 0"/>
      <geometry>
        <mesh filename="package://wheelwalker_description/meshes/wheelwalker_v0.1/right_tibia_link.stl" scale="0.001 0.001 0.001"/>
      </geometry>
      <material name="LightGrey"/>
    </visual>

    <collision>
      <origin rpy="0 0 0" xyz="0 0 -0.125"/>
      <geometry>
        <cylinder length="0.25" radius="0.0315"/>
      </geometry>
    </collision>
    <inertial>
      <origin rpy="0 0 0" xyz="0 0 -0.125"/>
      <mass value="1.2"/>
      <inertia ixx="0.006547674999999999" ixy="0.0" ixz="0.0" iyy="0.006547674999999999" iyz="0.0" izz="0.00059535"/>
    </inertial>
    <!-- <xacro:insert_block name="inertial"/> -->
  </link>
  <!-- add ankle mount -->
  <!-- <joint name="${prefix}_ankle_mount_joint" type="fixed">
            <origin xyz="${ankle_mount_x} ${ankle_mount_y} ${ankle_mount_z}" rpy="0 0 0"/>
            <parent link="${prefix}_tibia_link"/>
            <child link="${prefix}_ankle_mount_link"/>
        </joint> -->
  <!-- <xacro:rigid_shape name="${prefix}_ankle_mount_link" mass="${tibia_mass}" color="yellow-skin">
            <origin xyz="0 0 0" rpy="${ankle_mount_rpy}"/>
            <cylinder radius="${mount_radius_ankle}" length="${mount_length_ankle}"/>
            <inertia ixx="0.1" ixy="0.0" ixz="0.0" 
                     iyy="0.1" iyz="0.0" 
                     izz="0.1"/>
        </xacro:rigid_shape> -->
  <!-- <xacro:joint_mount name="${prefix}_ankle_mount"
                           parent_link="${prefix}_tibia_link"
                           attachment_origin="0 0 -${tibia_length}"
                           attachment_rotation="0 0 0"
                           mount_radius="${mount_radius_ankle}"
                           mount_length="${mount_length_ankle}"
                           color="yellow-skin"/> -->
  <!-- supporting foot -->
  <joint name="right_ankle_pitch_joint" type="fixed">
    <origin rpy="0 0.5235987755983333 0" xyz="0 0.035 -0.25"/>
    <parent link="right_tibia_link"/>
    <child link="right_foot_link"/>
    <axis xyz="0 1 0"/>
    <limit effort="1000.0" lower="-0.7853981633975" upper="0.7853981633975" velocity="10.0"/>
    <dynamics damping="0.0" friction="0.0"/>
  </joint>
  <!-- <xacro:rigid_shape name="${prefix}_foot_link" mass="${foot_mass}" color="${color}">
            <origin xyz="${foot_shape_x} ${foot_shape_y * reflect} ${foot_shape_z}" 
                    rpy="${foot_shape_rpy}"/>
            <cylinder radius="${foot_radius}" length="${foot_length}"/>
            <inertia ixx="0.1" ixy="0.0" ixz="0.0" 
                     iyy="0.1" iyz="0.0" 
                     izz="0.1"/>
        </xacro:rigid_shape> -->
  <link name="right_foot_link">
    <visual>
      <origin rpy="0 0 0" xyz="0 0 0"/>
      <geometry>
        <mesh filename="package://wheelwalker_description/meshes/wheelwalker_v0.1/right_foot_link.stl" scale="0.001 0.001 0.001"/>
      </geometry>
      <material name="LightGrey"/>
    </visual>

    <collision>
      <origin rpy="0 1.570796326795 0" xyz="-0.09 0 0"/>
      <geometry>
        <cylinder length="0.18" radius="0.012"/>
      </geometry>
    </collision>
    <inertial>
      <origin rpy="0 1.570796326795 0" xyz="-0.09 0 0"/>
      <mass value="1.177"/>
      <inertia ixx="0.0032202719999999997" ixy="0.0" ixz="0.0" iyy="0.0032202719999999997" iyz="0.0" izz="8.4744e-05"/>
    </inertial>
    <!-- <xacro:insert_block name="inertial"/> -->
  </link>
  <!-- wheel link -->
  <joint name="right_wheel_joint" type="continuous">
    <origin rpy="0 0 0" xyz="0 -0.03 -0.25"/>
    <parent link="right_tibia_link"/>
    <child link="right_wheel_link"/>
    <axis xyz="0 1 0"/>
    <limit effort="1000.0" velocity="10.0"/>
    <dynamics damping="0.0" friction="0.0"/>
  </joint>
  <!-- <xacro:rigid_shape name="${prefix}_wheel_link" mass="${wheel_mass}" color="${color}">
            <origin xyz="${wheel_shape_x} ${wheel_shape_y * reflect} ${wheel_shape_z}" 
                    rpy="${wheel_shape_rpy}"/>
            <cylinder radius="${wheel_radius}" length="${wheel_length}"/>
            <inertia ixx="0.1" ixy="0.0" ixz="0.0" 
                     iyy="0.1" iyz="0.0" 
                     izz="0.1"/>
        </xacro:rigid_shape> -->
  <link name="right_wheel_link">
    <visual>
      <origin rpy="0 0 0" xyz="0 0 0"/>
      <geometry>
        <mesh filename="package://wheelwalker_description/meshes/wheelwalker_v0.1/right_wheel_link.stl" scale="0.001 0.001 0.001"/>
      </geometry>
      <material name="LightGrey"/>
    </visual>

    <collision>
      <origin rpy="1.570796326795 0 0" xyz="0 0 0"/>
      <geometry>
        <cylinder length="0.03" radius="0.11"/>
      </geometry>
    </collision>
    <inertial>
      <origin rpy="1.570796326795 0 0" xyz="0 0 0"/>
      <mass value="0.9"/>
      <inertia ixx="0.0027899999999999995" ixy="0.0" ixz="0.0" iyy="0.0027899999999999995" iyz="0.0" izz="0.005445"/>
    </inertial>
    <!-- <xacro:insert_block name="inertial"/> -->
  </link>
</robot>
